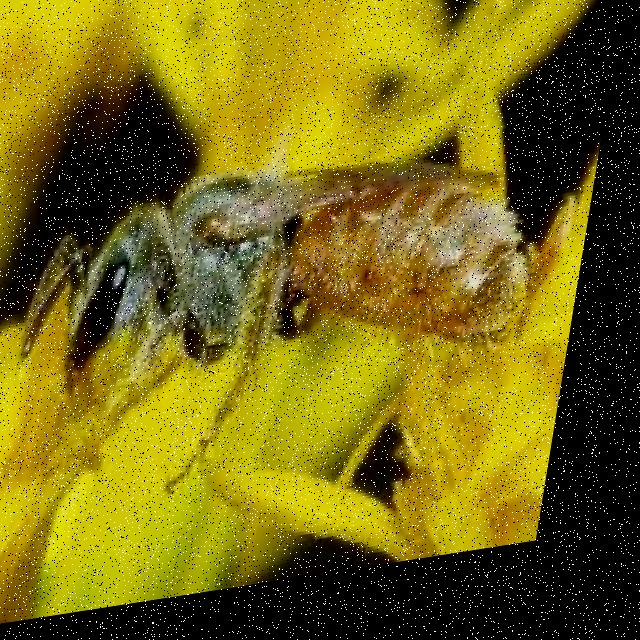Lasioglossum: (0, 107, 598, 510)
